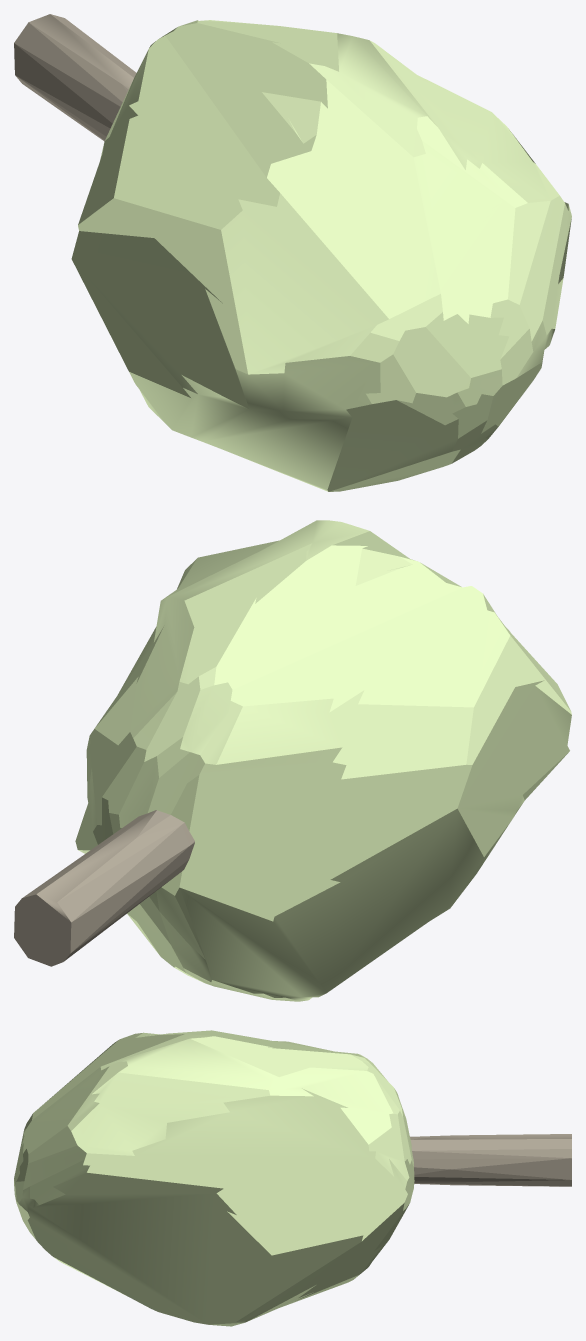
File: tree_apple_low.glb
3 renders of one model, top to bottom at view 1: azimuth 30°, elevation 25°; view 2: azimuth 150°, elevation 25°; view 3: azimuth 270°, elevation 25°, orthographic. The views are drawn at different scales.
Visible parts, largest first — view 1: Cube, Cube.001; view 2: Cube, Cube.001; view 3: Cube, Cube.001.
Part boxes in pixels (<box>): Cube: <box>71,20,571,491</box>; Cube.001: <box>14,14,136,141</box>; Cube: <box>75,520,571,1001</box>; Cube.001: <box>14,810,194,966</box>; Cube: <box>14,1030,414,1326</box>; Cube.001: <box>410,1134,571,1186</box>.
Bounding box in the file's own units: 2.59 × 2.6 × 5.02.
